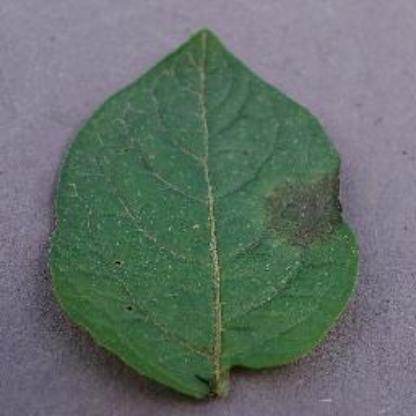Late-Blight: (44, 27, 374, 400)
